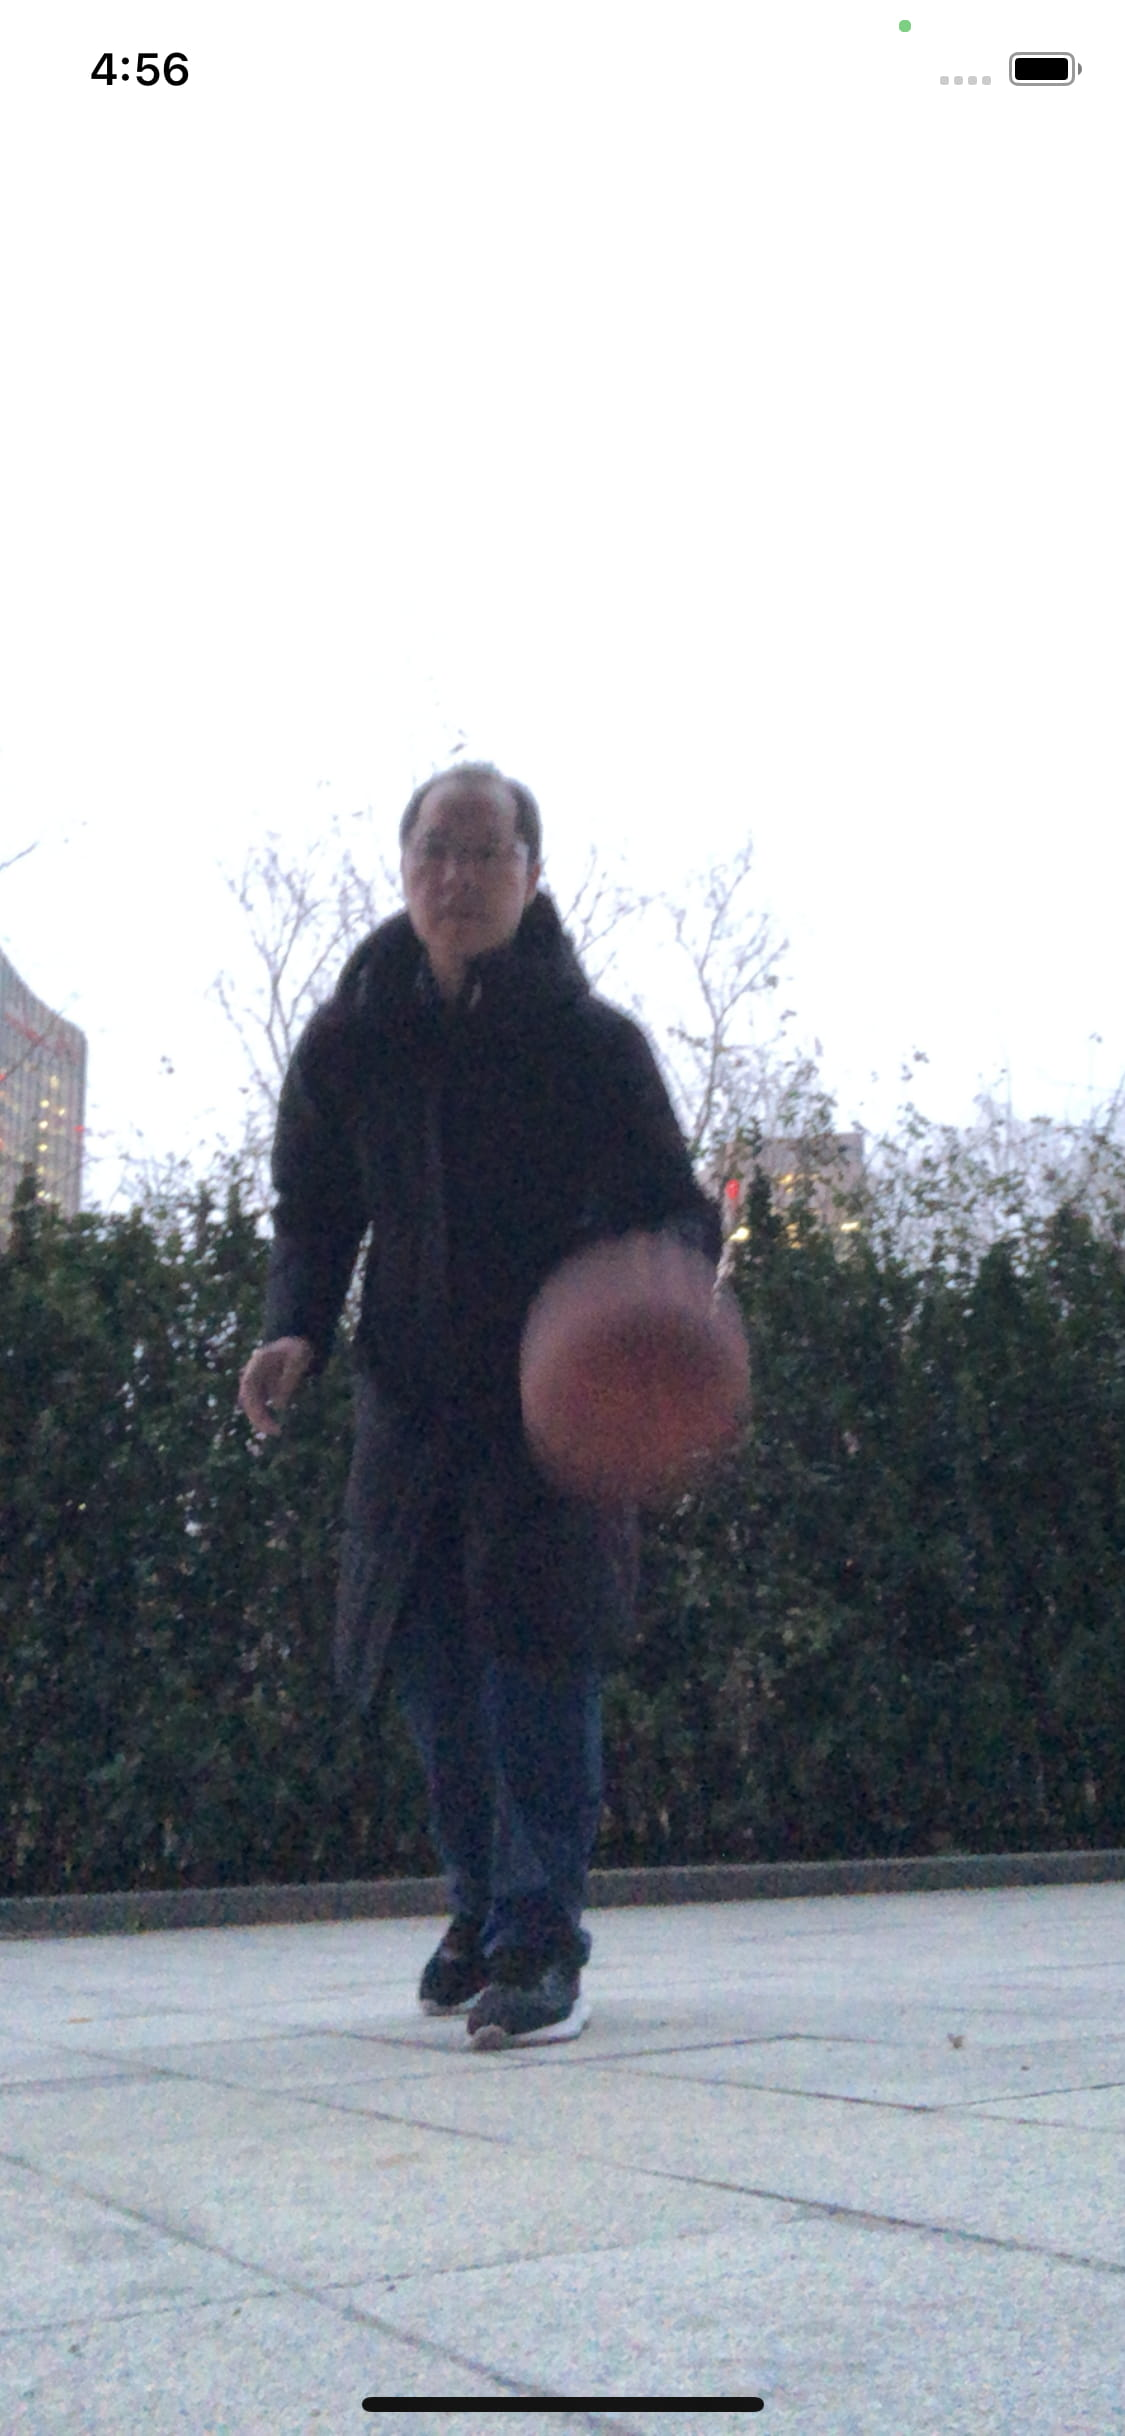ball: (510, 1252, 757, 1488)
